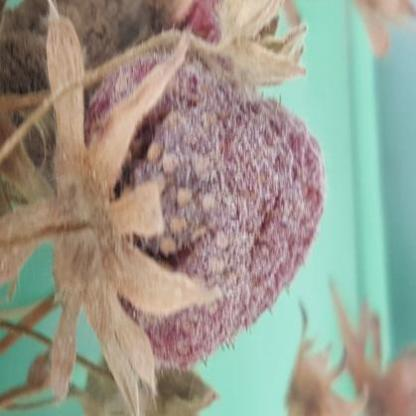Strawberry_Powdery_Mildew_Fruit: (56, 47, 328, 366)
